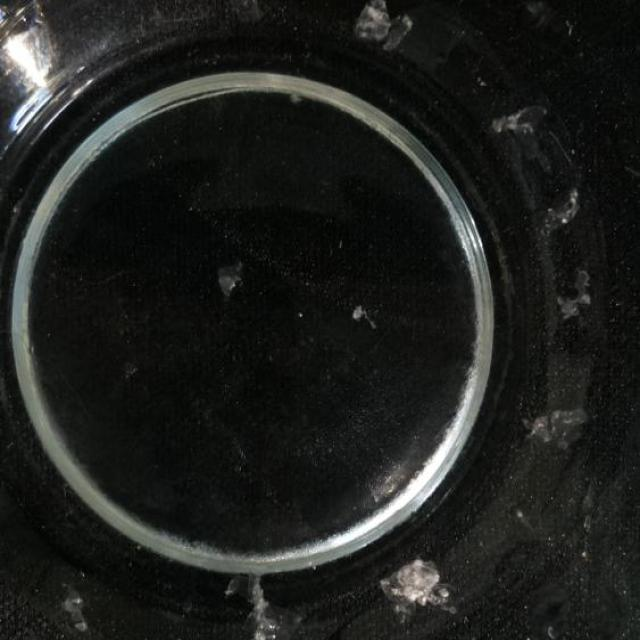fiber: (220, 569, 303, 640), (379, 559, 460, 623), (522, 405, 594, 450), (354, 1, 411, 54), (535, 189, 589, 238), (488, 102, 553, 138), (556, 268, 594, 322), (61, 591, 93, 636), (214, 261, 247, 301), (349, 297, 380, 331)
